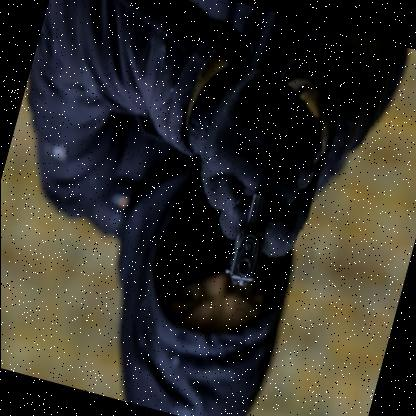rifle: (218, 165, 286, 297)
